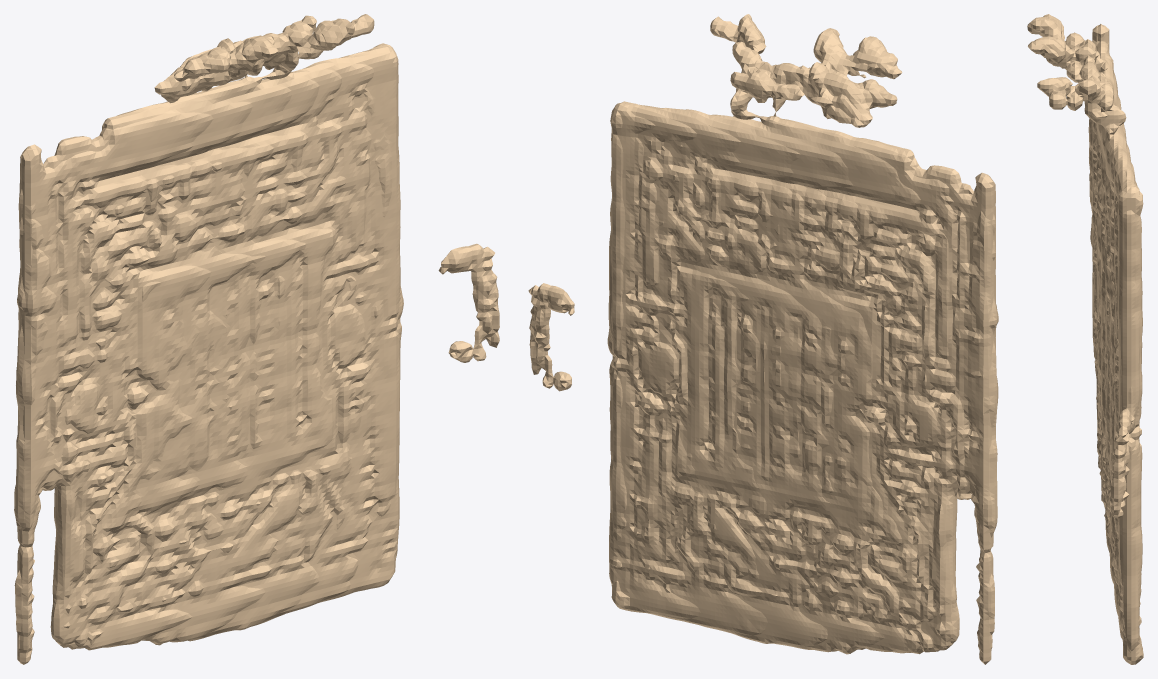
The model's file is raw.glb.
The picture shows the model from 3 angles, left to right: view 1: azimuth 30°, elevation 25°; view 2: azimuth 150°, elevation 25°; view 3: azimuth 270°, elevation 25°; orthographic projection. The views are drawn at different scales.
Parts seen in each view (by area): view 1: world; view 2: world; view 3: world.
Boxes of the visible parts, left/top/right/bottom form: world: left=14, top=14, right=499, bottom=664; world: left=528, top=14, right=998, bottom=664; world: left=1027, top=14, right=1143, bottom=664.
Size of the model in its own units: 0.5 by 0.6139 by 0.1157.
